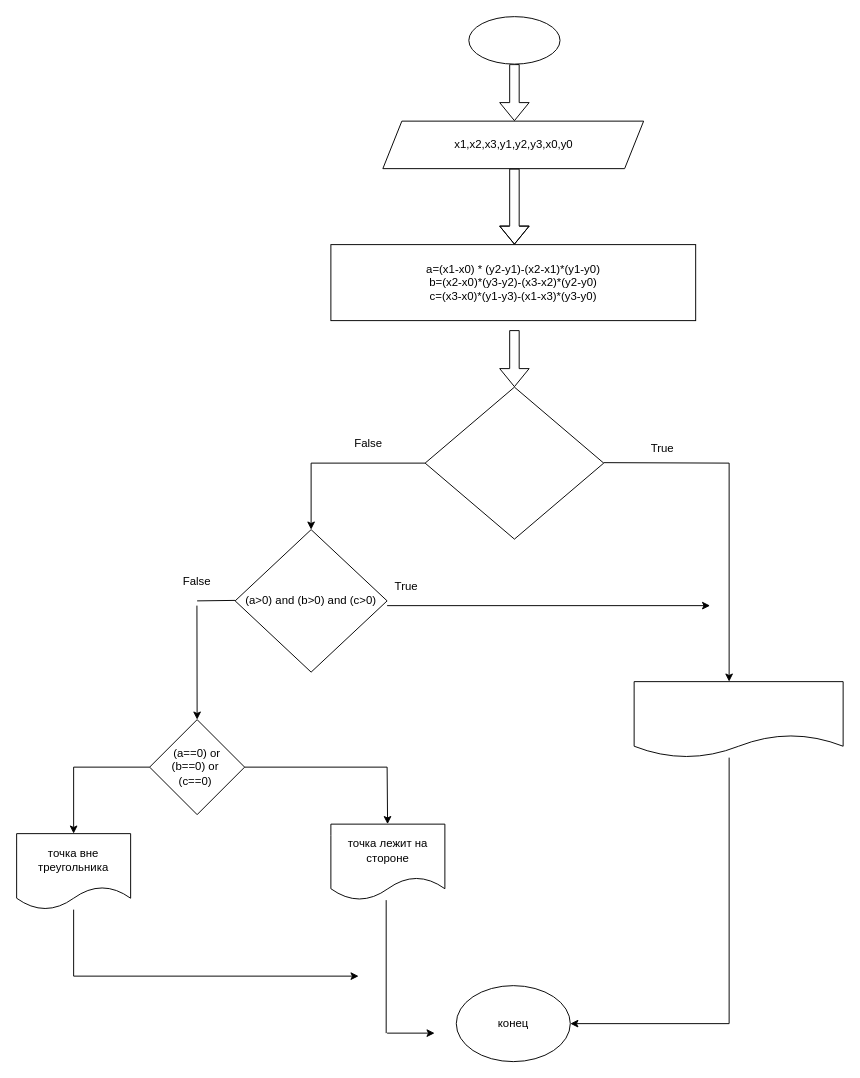
Some shapes in this 860 by 1078 pixel diagram are drawn without their labels. Each missing label, with the box of its shape:
(a<0) and (b<0) and (c<0): (424, 386, 604, 539)
Начало: (468, 16, 560, 64)
точка внутри треугольника: (633, 681, 843, 758)
